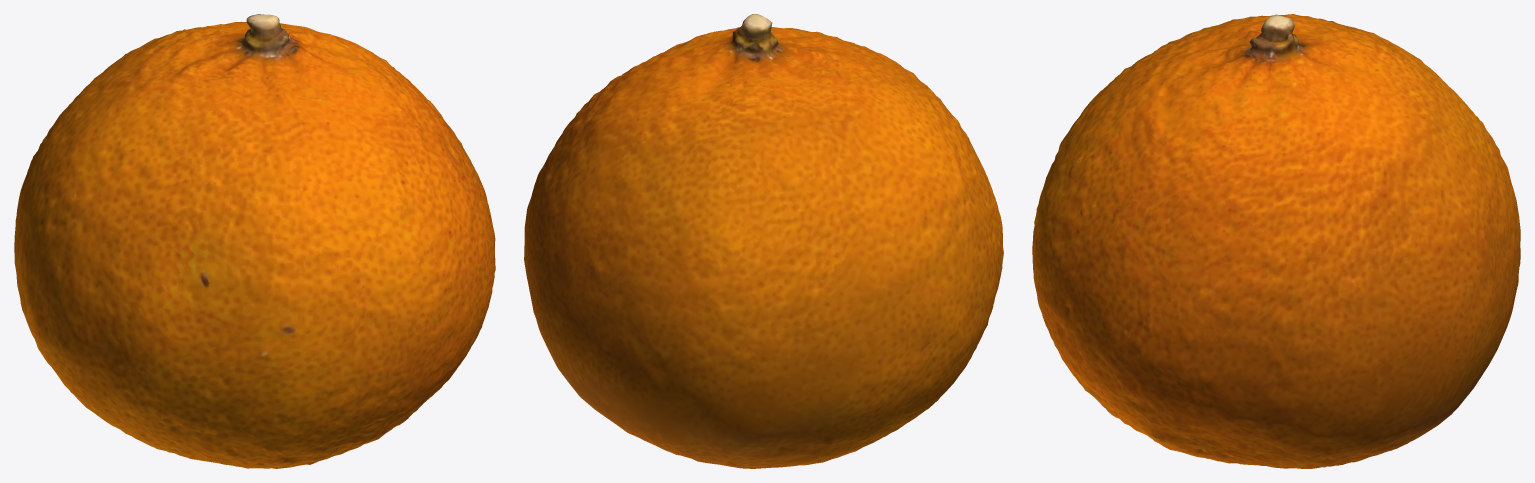
Rendered from orange.glb.
3 views of the same model, side by side, from view 1: azimuth 30°, elevation 25°; view 2: azimuth 150°, elevation 25°; view 3: azimuth 270°, elevation 25° (orthographic). The views are drawn at different scales.
Parts seen in each view (by area): view 1: Sketchfab Model; view 2: Sketchfab Model; view 3: Sketchfab Model.
Part boxes in pixels (x1=…): Sketchfab Model: x1=14, y1=14, x2=495, y2=468; Sketchfab Model: x1=524, y1=14, x2=1003, y2=468; Sketchfab Model: x1=1032, y1=14, x2=1520, y2=468.
Size of the model in its own units: 1.58 by 1.47 by 1.57.
1 material, 1 textured.
